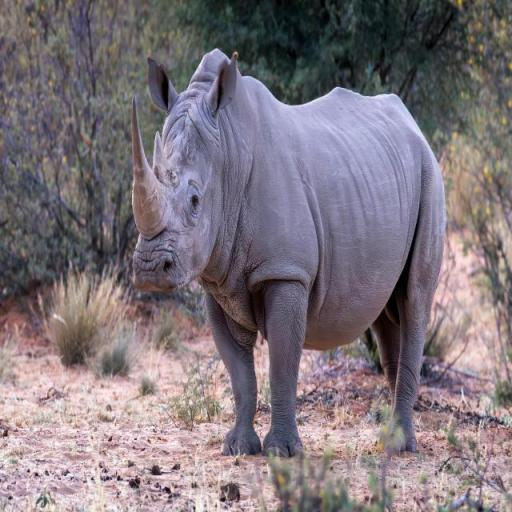Rhino: (131, 47, 447, 460)
